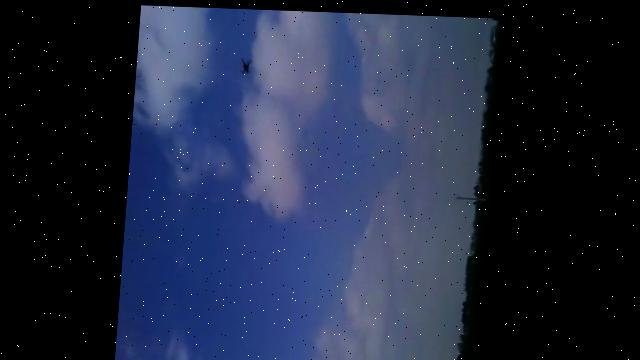drone: (235, 53, 254, 75)
